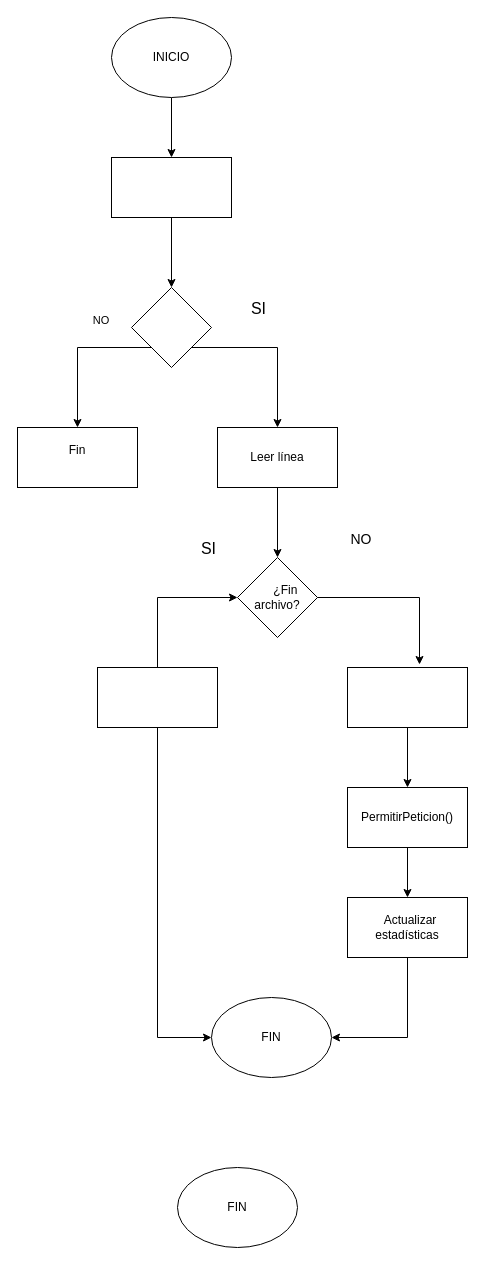
Some shapes in this 485 by 1265 pixel diagram are drawn without their labels. The shapes that lost their labels are listed below. From the top down, each one's centre as x and y in pixels, then its label:
At pixel 171 187: "Abrir access.log".
At pixel 171 327: "¿Archivo válido?".
At pixel 157 697: "Mostrar Resumen".
At pixel 407 697: "Parsear línea".
